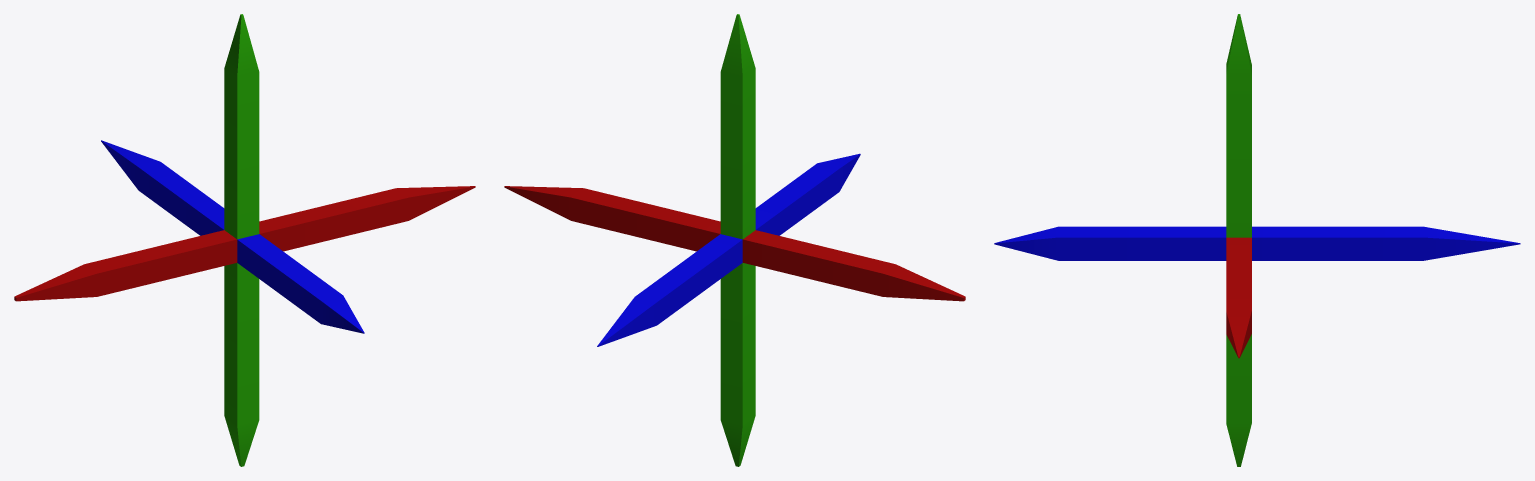
File: XYZ Maya.fbx
3 views of the same model, side by side, from view 1: azimuth 30°, elevation 25°; view 2: azimuth 150°, elevation 25°; view 3: azimuth 270°, elevation 25° (orthographic).
Visible parts, largest first — view 1: pCube1; view 2: pCube1; view 3: pCube1.
Part boxes in pixels (left/top/right/bottom): pCube1: left=14, top=14, right=475, bottom=466; pCube1: left=504, top=14, right=965, bottom=466; pCube1: left=994, top=14, right=1520, bottom=466.
Size of the model in its own units: 10.26 by 9.61 by 10.15.
